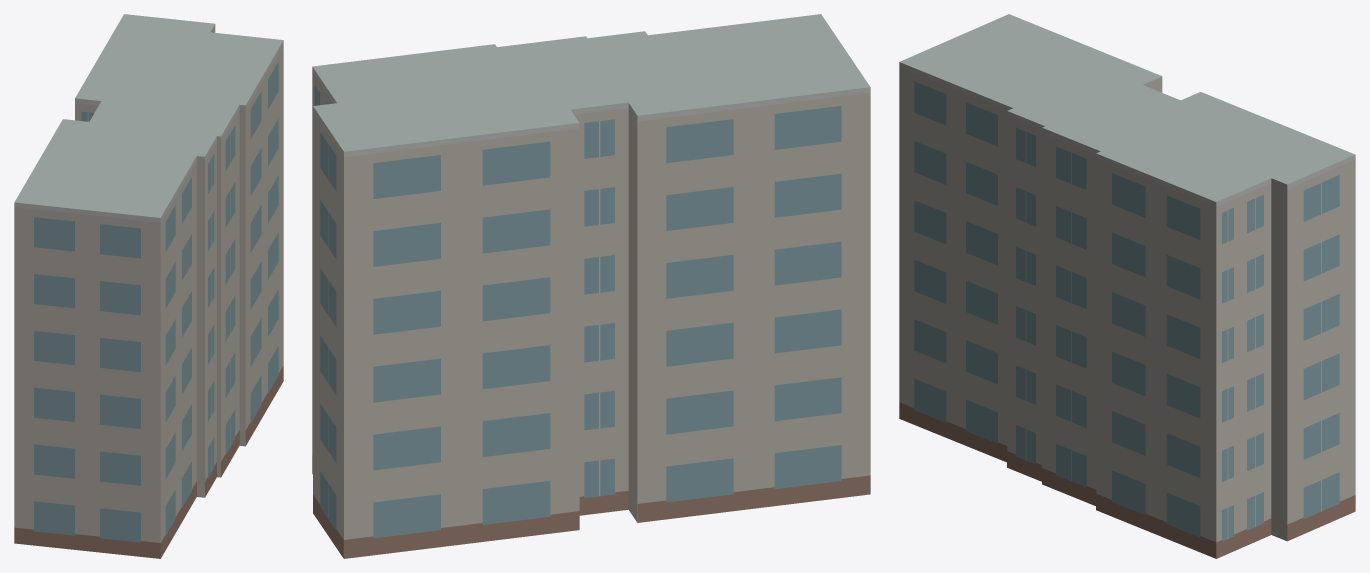
Rendered from survey-upis-32619121.glb.
3 views of the same model, side by side, from view 1: azimuth 30°, elevation 25°; view 2: azimuth 150°, elevation 25°; view 3: azimuth 270°, elevation 25° (orthographic). The views are drawn at different scales.
Visible parts, largest first — view 1: survey-upis-32619121.tmp; view 2: survey-upis-32619121.tmp; view 3: survey-upis-32619121.tmp.
Part boxes in pixels (left/top/right/bottom): survey-upis-32619121.tmp: left=14, top=14, right=283, bottom=558; survey-upis-32619121.tmp: left=312, top=14, right=870, bottom=558; survey-upis-32619121.tmp: left=899, top=14, right=1355, bottom=558.
Size of the model in its own units: 20.3 by 17.95 by 20.82.
